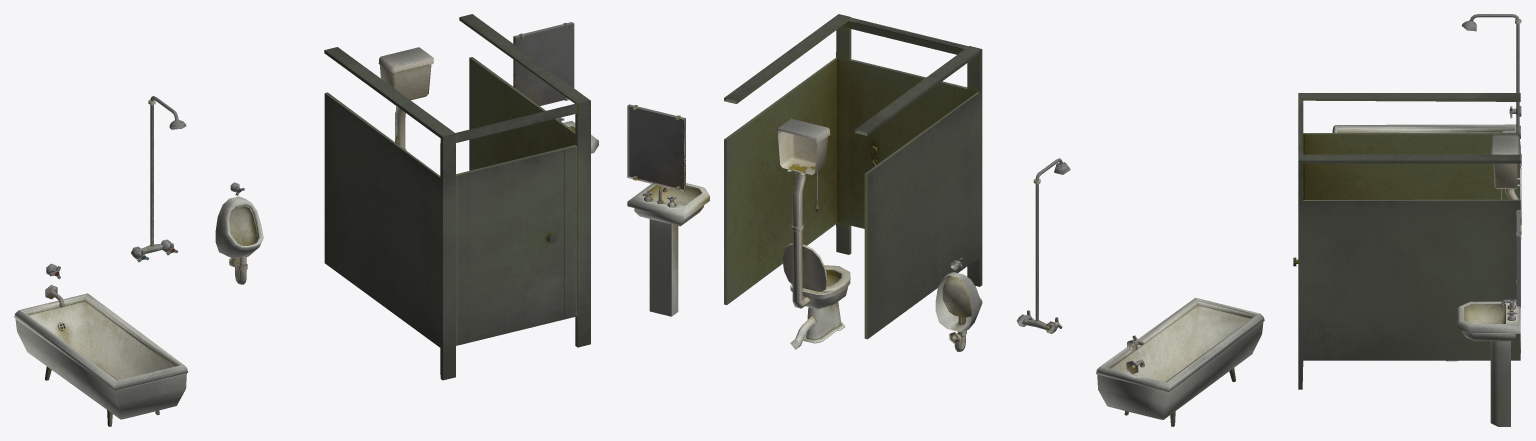
Rendered from toilet_props.fbx.
The picture shows the model from 3 angles, left to right: view 1: azimuth 30°, elevation 25°; view 2: azimuth 150°, elevation 25°; view 3: azimuth 270°, elevation 25°; orthographic projection. The views are drawn at different scales.
Visible parts, largest first — view 1: toilet_cubicle, toilet_cubicle_door, bath, mirror, urinal, toilet, shower; view 2: toilet_cubicle, bath, toilet, toilet_cubicle_door, sink, mirror, urinal, shower; view 3: toilet_cubicle, sink, bath, toilet, shower, mirror.
Boxes of the visible parts, x1,y1,x2,y2 form: toilet_cubicle: (324,14,590,380); toilet_cubicle_door: (467,148,563,342); bath: (14,263,188,426); mirror: (513,22,574,105); urinal: (215,182,263,284); toilet: (378,47,433,150); shower: (131,96,186,262); toilet_cubicle: (724,14,982,339); bath: (1096,297,1264,426); toilet: (777,118,850,349); toilet_cubicle_door: (862,62,955,228); sink: (627,183,709,316); mirror: (627,104,685,191); urinal: (935,258,982,351); shower: (1017,158,1070,333); toilet_cubicle: (1298,93,1520,389); sink: (1457,299,1520,426); bath: (1332,106,1521,147); toilet: (1446,135,1521,361); shower: (1461,14,1521,167); mirror: (1516,210,1520,306).
Bounding box in the file's own units: 544 × 227 × 205.
1 material, 1 textured.
